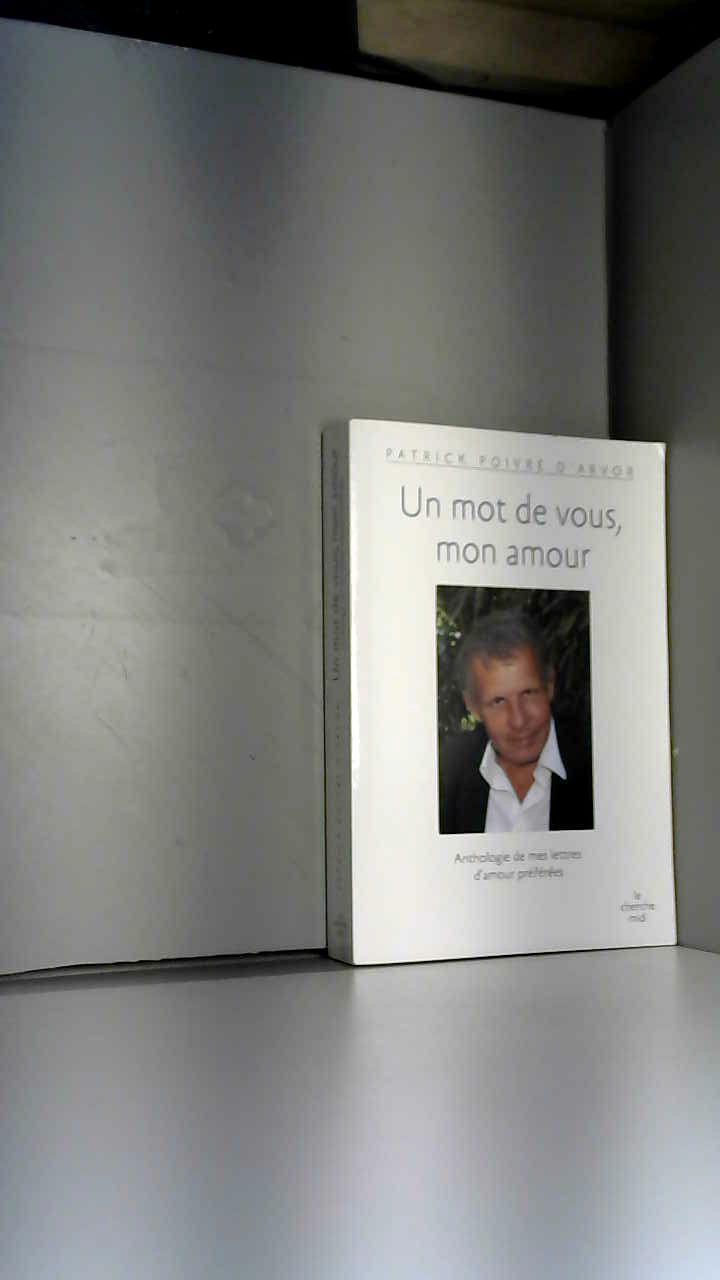book: (281, 380, 712, 992)
